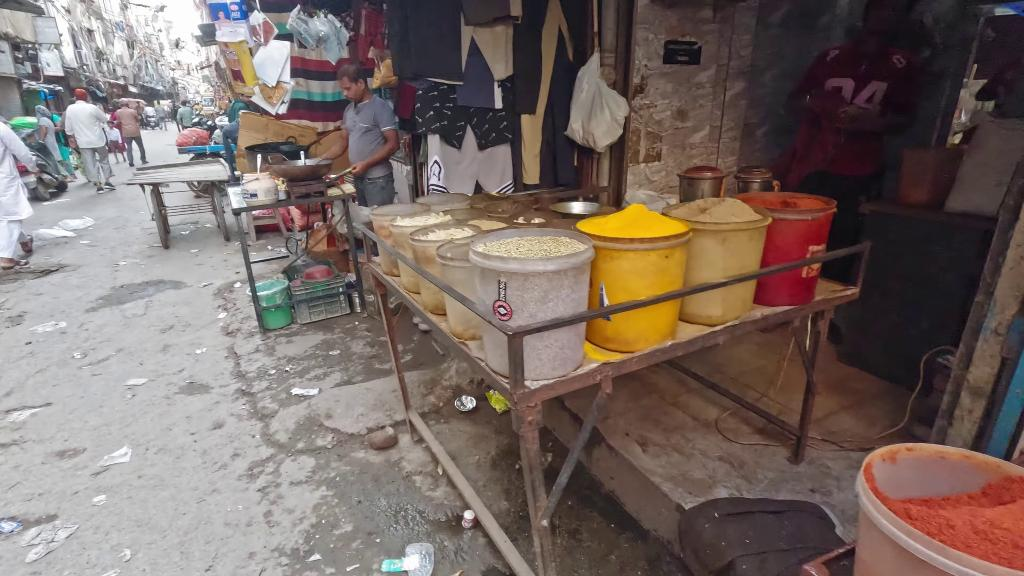garbage: (1, 509, 83, 565), (376, 535, 441, 576), (35, 211, 103, 242), (28, 315, 75, 345), (479, 381, 514, 419), (95, 441, 139, 471), (7, 396, 38, 426), (287, 383, 326, 406), (449, 389, 477, 417), (456, 504, 478, 533), (124, 376, 153, 392)
